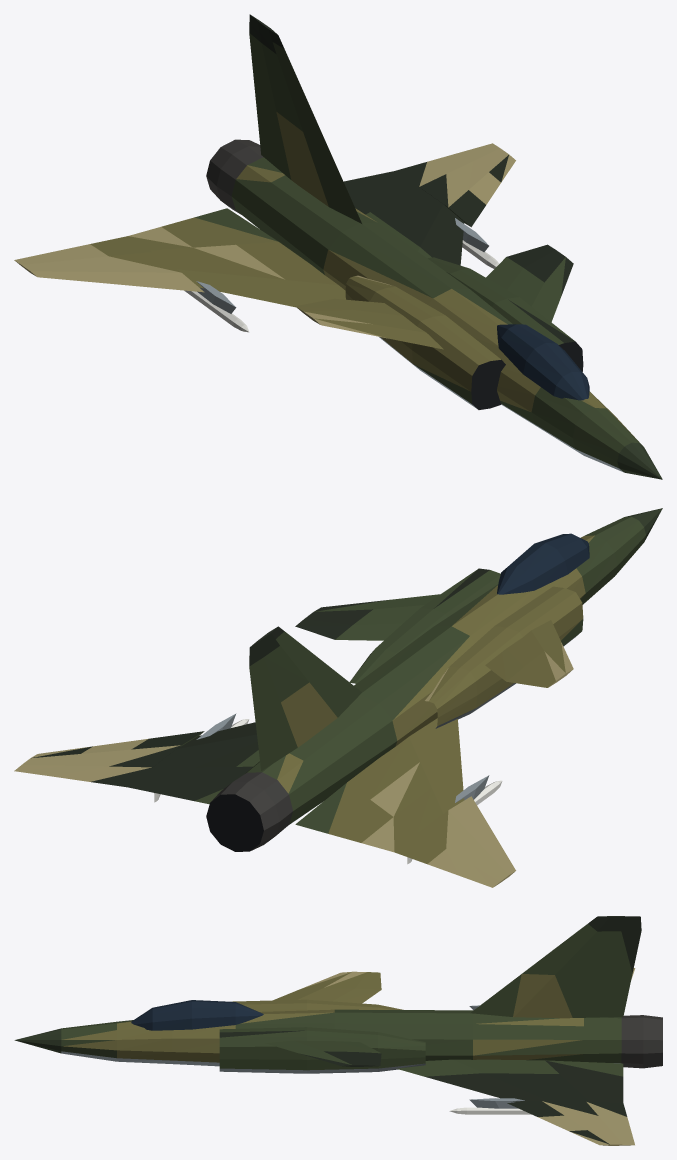
The picture shows the model from 3 angles, top to bottom: view 1: azimuth 30°, elevation 25°; view 2: azimuth 150°, elevation 25°; view 3: azimuth 270°, elevation 25°; orthographic projection. The views are drawn at different scales.
Visible parts, largest first — view 1: ja46; view 2: ja46; view 3: ja46.
Boxes of the visible parts, x1,y1,x2,y2 form: ja46: [14, 14, 662, 479]; ja46: [14, 508, 662, 887]; ja46: [14, 916, 662, 1145].
Bounding box in the file's own units: 10.6 × 4.42 × 16.4.
